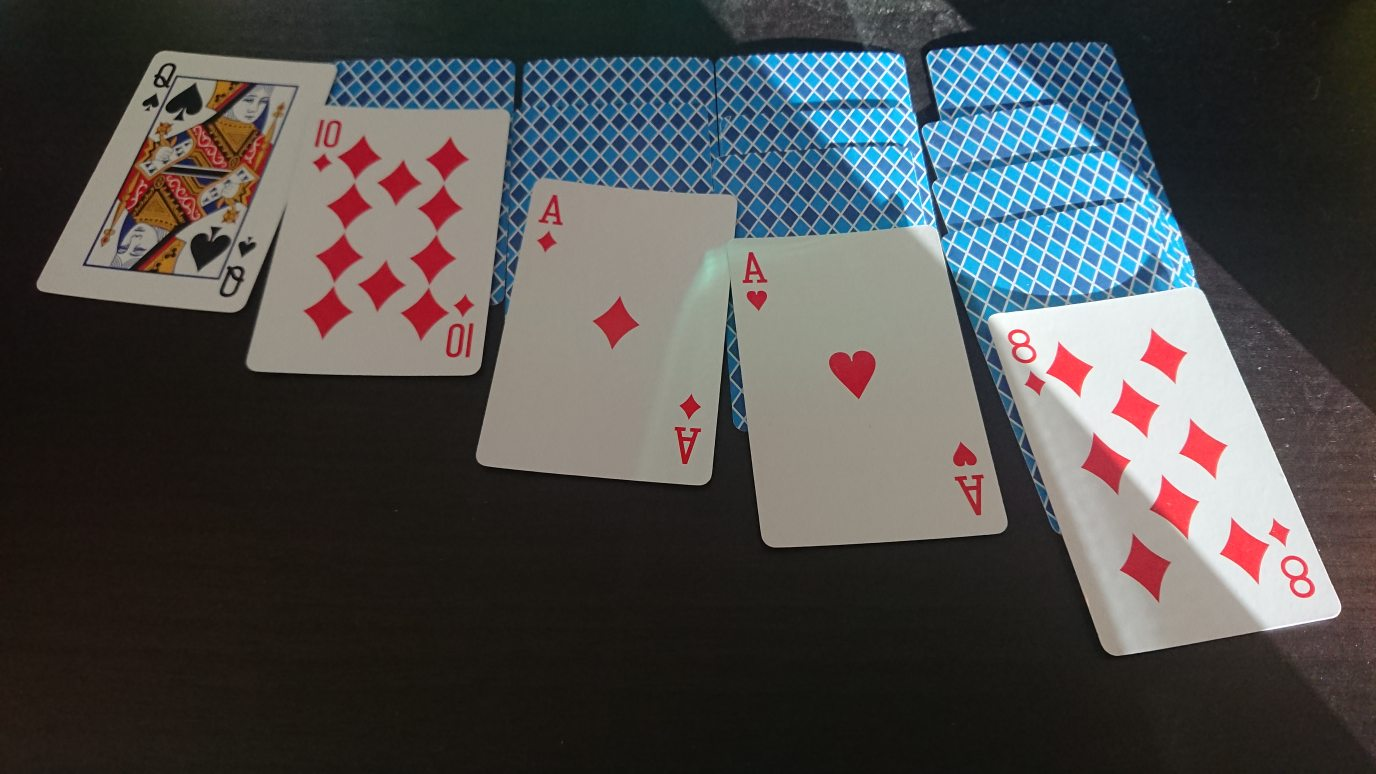10D: (311, 116, 344, 176)
8D: (1003, 326, 1049, 402)
AD: (532, 192, 569, 256)
AH: (737, 247, 772, 316)
BACK: (943, 205, 1190, 295), (513, 99, 714, 184), (715, 150, 929, 227), (925, 37, 1134, 104), (922, 102, 1140, 157), (715, 51, 914, 107), (934, 153, 1148, 203), (333, 58, 515, 108), (717, 105, 922, 149), (519, 56, 716, 101)
QS: (138, 58, 181, 116)
